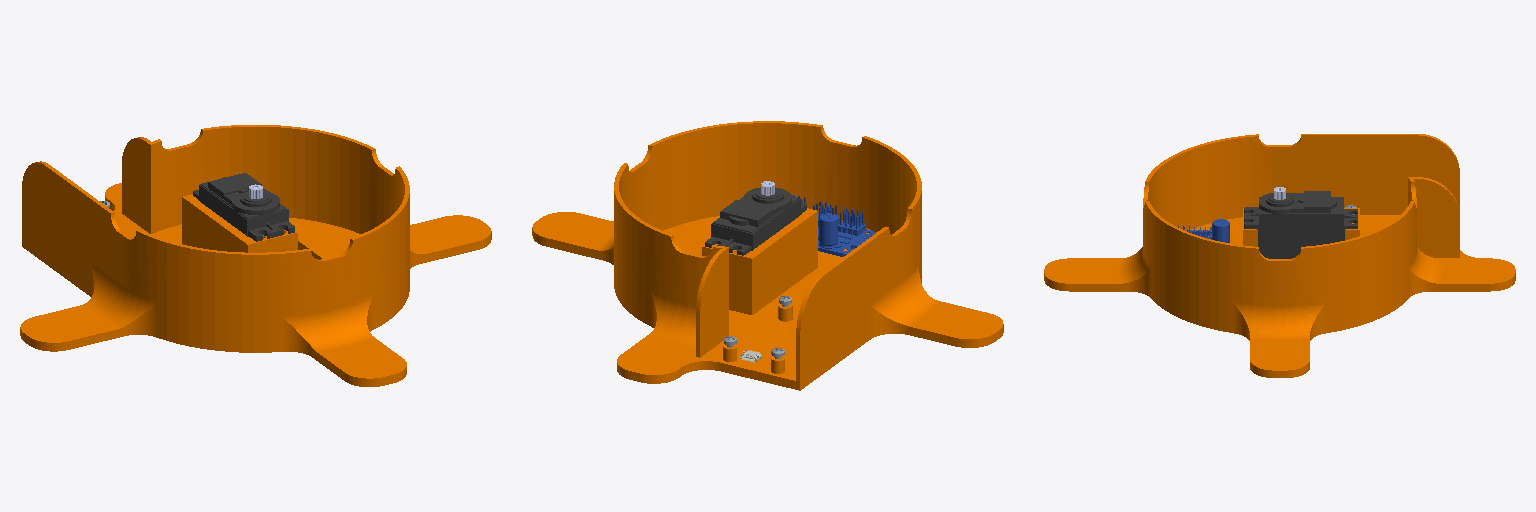
The robot description file, URDF, robot "arm-v3":
<?xml version="1.0" ?>
<!-- Generated using onshape-to-robot -->
<!-- Onshape https://cad.onshape.com/documents/d7eef6374aced10980d655e0/w/a95c1ea2fcec3b2e30db9b5b/e/8d1351f7a95e52f2d9ada234 -->
<robot name="arm-v3">
  <!-- Link a_v3_base -->
  <link name="a_v3_base">
    <inertial>
      <origin xyz="-0.00597698 -0.0791498 0.0106431" rpy="0 0 0"/>
      <mass value="0.219524"/>
      <inertia ixx="0.000386732" ixy="5.87702e-05" ixz="-4.6693e-06" iyy="0.000335538" iyz="-1.7287e-08" izz="0.00065635"/>
    </inertial>
    <!-- Part ph_pan_head_screw_m3x0_50_x_6__b32648e3119e9bfb9d9baf1e22451401 -->
    <visual>
      <origin xyz="-0.0501029 -0.0106069 0.011994" rpy="-0 0 1.5708"/>
      <geometry>
        <mesh filename="package://assets/ph_pan_head_screw_m3x0_50_x_6__b32648e3119e9bfb9d9baf1e22451401.stl"/>
      </geometry>
      <material name="ph_pan_head_screw_m3x0_50_x_6__b32648e3119e9bfb9d9baf1e22451401_material">
        <color rgba="0.603922 0.647059 0.686275 1"/>
      </material>
    </visual>
    <collision>
      <origin xyz="-0.0501029 -0.0106069 0.011994" rpy="-0 0 1.5708"/>
      <geometry>
        <mesh filename="package://assets/ph_pan_head_screw_m3x0_50_x_6__b32648e3119e9bfb9d9baf1e22451401.stl"/>
      </geometry>
    </collision>
    <!-- Part base -->
    <visual>
      <origin xyz="0.000397123 -0.0896069 0.00199404" rpy="0 -0 0"/>
      <geometry>
        <mesh filename="package://assets/base.stl"/>
      </geometry>
      <material name="base_material">
        <color rgba="0.972549 0.529412 0.00392157 1"/>
      </material>
    </visual>
    <collision>
      <origin xyz="0.000397123 -0.0896069 0.00199404" rpy="0 -0 0"/>
      <geometry>
        <mesh filename="package://assets/base.stl"/>
      </geometry>
    </collision>
    <!-- Part pca9685_generic -->
    <visual>
      <origin xyz="0.00639712 -0.125607 0.00719404" rpy="-0 -0 0"/>
      <geometry>
        <mesh filename="package://assets/pca9685_generic.stl"/>
      </geometry>
      <material name="pca9685_generic_material">
        <color rgba="0.231373 0.380392 0.705882 1"/>
      </material>
    </visual>
    <collision>
      <origin xyz="0.00639712 -0.125607 0.00719404" rpy="-0 -0 0"/>
      <geometry>
        <mesh filename="package://assets/pca9685_generic.stl"/>
      </geometry>
    </collision>
    <!-- Part ph_pan_head_screw_m3x0_50_x_6__b32648e3119e9bfb9d9baf1e22451401_2 -->
    <visual>
      <origin xyz="-0.0271029 -0.0566069 0.011994" rpy="-0 0 1.5708"/>
      <geometry>
        <mesh filename="package://assets/ph_pan_head_screw_m3x0_50_x_6__b32648e3119e9bfb9d9baf1e22451401.stl"/>
      </geometry>
      <material name="ph_pan_head_screw_m3x0_50_x_6__b32648e3119e9bfb9d9baf1e22451401_2_material">
        <color rgba="0.603922 0.647059 0.686275 1"/>
      </material>
    </visual>
    <collision>
      <origin xyz="-0.0271029 -0.0566069 0.011994" rpy="-0 0 1.5708"/>
      <geometry>
        <mesh filename="package://assets/ph_pan_head_screw_m3x0_50_x_6__b32648e3119e9bfb9d9baf1e22451401.stl"/>
      </geometry>
    </collision>
    <!-- Part ph_pan_head_screw_m3x0_50_x_6__b32648e3119e9bfb9d9baf1e22451401_3 -->
    <visual>
      <origin xyz="-0.0501029 -0.0566069 0.011994" rpy="-0 0 1.5708"/>
      <geometry>
        <mesh filename="package://assets/ph_pan_head_screw_m3x0_50_x_6__b32648e3119e9bfb9d9baf1e22451401.stl"/>
      </geometry>
      <material name="ph_pan_head_screw_m3x0_50_x_6__b32648e3119e9bfb9d9baf1e22451401_3_material">
        <color rgba="0.603922 0.647059 0.686275 1"/>
      </material>
    </visual>
    <collision>
      <origin xyz="-0.0501029 -0.0566069 0.011994" rpy="-0 0 1.5708"/>
      <geometry>
        <mesh filename="package://assets/ph_pan_head_screw_m3x0_50_x_6__b32648e3119e9bfb9d9baf1e22451401.stl"/>
      </geometry>
    </collision>
    <!-- Part ph_pan_head_screw_m3x0_50_x_6__b32648e3119e9bfb9d9baf1e22451401_4 -->
    <visual>
      <origin xyz="-0.0271029 -0.0106069 0.011994" rpy="-0 0 1.5708"/>
      <geometry>
        <mesh filename="package://assets/ph_pan_head_screw_m3x0_50_x_6__b32648e3119e9bfb9d9baf1e22451401.stl"/>
      </geometry>
      <material name="ph_pan_head_screw_m3x0_50_x_6__b32648e3119e9bfb9d9baf1e22451401_4_material">
        <color rgba="0.603922 0.647059 0.686275 1"/>
      </material>
    </visual>
    <collision>
      <origin xyz="-0.0271029 -0.0106069 0.011994" rpy="-0 0 1.5708"/>
      <geometry>
        <mesh filename="package://assets/ph_pan_head_screw_m3x0_50_x_6__b32648e3119e9bfb9d9baf1e22451401.stl"/>
      </geometry>
    </collision>
    <!-- Part pinheader_1x15_p254mm_vertical -->
    <visual>
      <origin xyz="-0.0387099 -0.0334148 0.00954404" rpy="3.14159 0 1.5708"/>
      <geometry>
        <mesh filename="package://assets/pinheader_1x15_p254mm_vertical.stl"/>
      </geometry>
      <material name="pinheader_1x15_p254mm_vertical_material">
        <color rgba="0.858824 0.737255 0.494118 1"/>
      </material>
    </visual>
    <collision>
      <origin xyz="-0.0387099 -0.0334148 0.00954404" rpy="3.14159 0 1.5708"/>
      <geometry>
        <mesh filename="package://assets/pinheader_1x15_p254mm_vertical.stl"/>
      </geometry>
    </collision>
    <!-- Part lqfp_52_14x14mm_p1mm -->
    <visual>
      <origin xyz="-0.0387079 -0.0304148 0.00964404" rpy="3.14159 0 1.5708"/>
      <geometry>
        <mesh filename="package://assets/lqfp_52_14x14mm_p1mm.stl"/>
      </geometry>
      <material name="lqfp_52_14x14mm_p1mm_material">
        <color rgba="0.823529 0.819608 0.780392 1"/>
      </material>
    </visual>
    <collision>
      <origin xyz="-0.0387079 -0.0304148 0.00964404" rpy="3.14159 0 1.5708"/>
      <geometry>
        <mesh filename="package://assets/lqfp_52_14x14mm_p1mm.stl"/>
      </geometry>
    </collision>
    <!-- Part usb_micro_b_molex_47346_0001 -->
    <visual>
      <origin xyz="-0.0387079 -0.0334148 0.0096517" rpy="3.14159 0 1.5708"/>
      <geometry>
        <mesh filename="package://assets/usb_micro_b_molex_47346_0001.stl"/>
      </geometry>
      <material name="usb_micro_b_molex_47346_0001_material">
        <color rgba="0.823529 0.819608 0.780392 1"/>
      </material>
    </visual>
    <collision>
      <origin xyz="-0.0387079 -0.0334148 0.0096517" rpy="3.14159 0 1.5708"/>
      <geometry>
        <mesh filename="package://assets/usb_micro_b_molex_47346_0001.stl"/>
      </geometry>
    </collision>
    <!-- Part esp32_30pin_pcb -->
    <visual>
      <origin xyz="-0.0387079 -0.0334148 0.00959404" rpy="3.14159 0 1.5708"/>
      <geometry>
        <mesh filename="package://assets/esp32_30pin_pcb.stl"/>
      </geometry>
      <material name="esp32_30pin_pcb_material">
        <color rgba="0.313725 0.486275 0.411765 1"/>
      </material>
    </visual>
    <collision>
      <origin xyz="-0.0387079 -0.0334148 0.00959404" rpy="3.14159 0 1.5708"/>
      <geometry>
        <mesh filename="package://assets/esp32_30pin_pcb.stl"/>
      </geometry>
    </collision>
    <!-- Part lqfp_32_5x5mm_p05mm -->
    <visual>
      <origin xyz="-0.0387079 -0.0384149 0.00974404" rpy="3.14159 0 1.5708"/>
      <geometry>
        <mesh filename="package://assets/lqfp_32_5x5mm_p05mm.stl"/>
      </geometry>
      <material name="lqfp_32_5x5mm_p05mm_material">
        <color rgba="0.823529 0.819608 0.780392 1"/>
      </material>
    </visual>
    <collision>
      <origin xyz="-0.0387079 -0.0384149 0.00974404" rpy="3.14159 0 1.5708"/>
      <geometry>
        <mesh filename="package://assets/lqfp_32_5x5mm_p05mm.stl"/>
      </geometry>
    </collision>
    <!-- Part pinheader_1x15_p254mm_vertical_1 -->
    <visual>
      <origin xyz="-0.0387059 -0.0334149 0.00954404" rpy="3.14159 0 1.5708"/>
      <geometry>
        <mesh filename="package://assets/pinheader_1x15_p254mm_vertical_1.stl"/>
      </geometry>
      <material name="pinheader_1x15_p254mm_vertical_1_material">
        <color rgba="0.858824 0.737255 0.494118 1"/>
      </material>
    </visual>
    <collision>
      <origin xyz="-0.0387059 -0.0334149 0.00954404" rpy="3.14159 0 1.5708"/>
      <geometry>
        <mesh filename="package://assets/pinheader_1x15_p254mm_vertical_1.stl"/>
      </geometry>
    </collision>
    <!-- Part mg996r -->
    <visual>
      <origin xyz="0.000397123 -0.099956 0" rpy="-0 0 1.5708"/>
      <geometry>
        <mesh filename="package://assets/mg996r.stl"/>
      </geometry>
      <material name="mg996r_material">
        <color rgba="0.301961 0.301961 0.301961 1"/>
      </material>
    </visual>
    <collision>
      <origin xyz="0.000397123 -0.099956 0" rpy="-0 0 1.5708"/>
      <geometry>
        <mesh filename="package://assets/mg996r.stl"/>
      </geometry>
    </collision>
    <!-- Part attach -->
    <visual>
      <origin xyz="0.000397123 -0.099956 0.0005" rpy="-0 0 1.5708"/>
      <geometry>
        <mesh filename="package://assets/attach.stl"/>
      </geometry>
      <material name="attach_material">
        <color rgba="0.796078 0.823529 0.937255 1"/>
      </material>
    </visual>
    <collision>
      <origin xyz="0.000397123 -0.099956 0.0005" rpy="-0 0 1.5708"/>
      <geometry>
        <mesh filename="package://assets/attach.stl"/>
      </geometry>
    </collision>
  </link>
</robot>

--- What the picture shows (computed from the rendered views, not written in the file) ---
The picture shows the robot from 3 angles, left to right: view 1: azimuth 30°, elevation 25°; view 2: azimuth 150°, elevation 25°; view 3: azimuth 270°, elevation 25°; orthographic projection.
Robot: arm-v3 — 1 links, 0 joints (none); root link a_v3_base; default pose: every joint at zero.
Links seen in each view (by area): view 1: a_v3_base; view 2: a_v3_base; view 3: a_v3_base.
Link boxes in pixels (box(x1,y1,x2,y2)): a_v3_base: box(20, 125, 491, 386); a_v3_base: box(532, 121, 1003, 390); a_v3_base: box(1044, 134, 1515, 377).
Bounding box of the posed robot: 0.22 × 0.22 × 0.046 m (x, y, z).
Meshes: 11 distinct files referenced, 9 mesh visuals loaded (6 binary STL); not drawn: 5 (reference not matched to a file when rendering).
